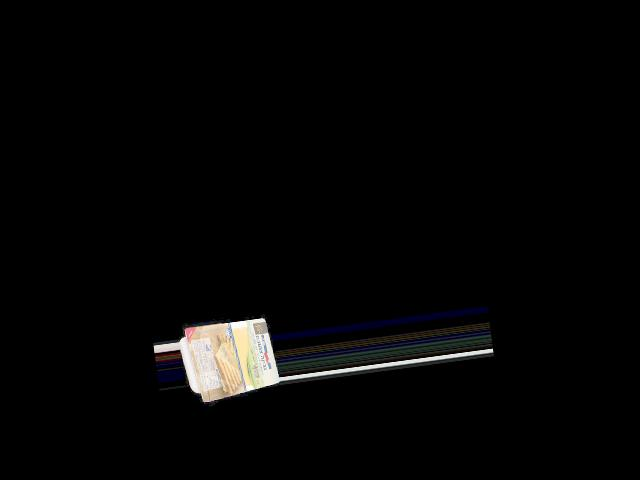cheese: (177, 320, 279, 402)
